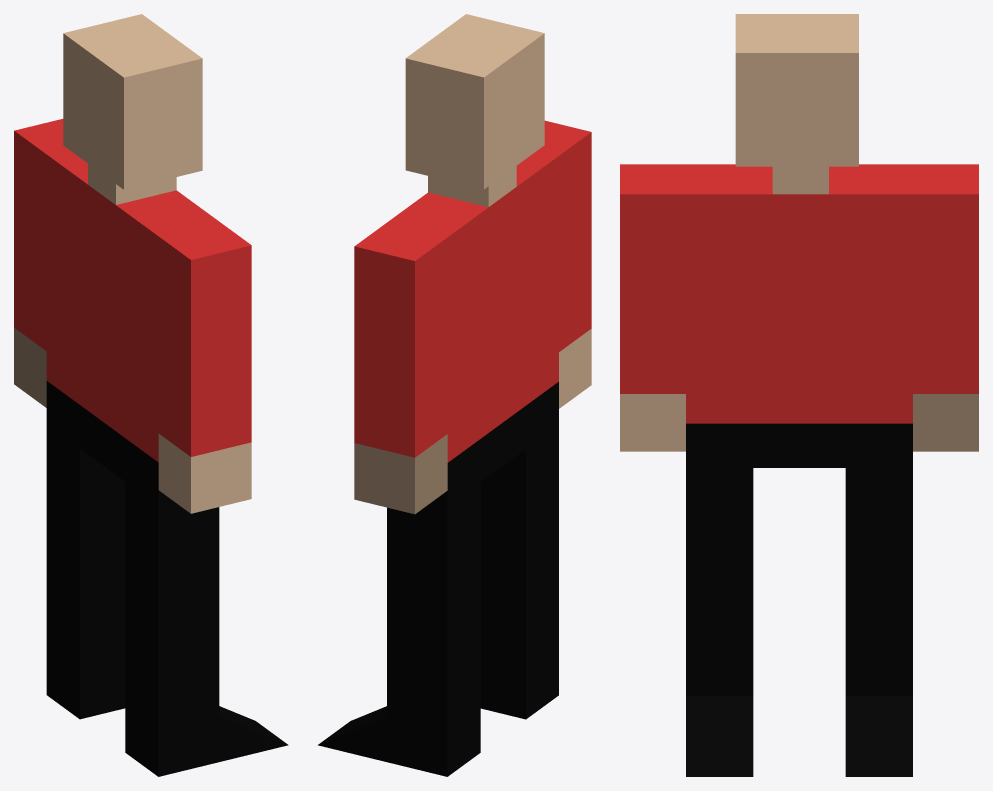
File: classroom_avatar.glb
3 renders of one model, left to right at view 1: azimuth 30°, elevation 25°; view 2: azimuth 150°, elevation 25°; view 3: azimuth 270°, elevation 25°, orthographic.
Visible parts, largest first — view 1: Cube.004, Cube.001, Cube.002, Cube.005, Cube.007, Cube.008, Cube.006; view 2: Cube.004, Cube.002, Cube.001, Cube.005, Cube.008, Cube.007, Cube.006; view 3: Cube.004, Cube.001, Cube.002, Cube.005, Cube.007, Cube.008, Cube.006.
Boxes of the visible parts, x1,y1,x2,y2 form: Cube.004: [14, 119, 251, 462]; Cube.001: [80, 405, 288, 776]; Cube.002: [46, 381, 125, 719]; Cube.005: [63, 14, 202, 189]; Cube.007: [158, 434, 251, 513]; Cube.008: [14, 328, 46, 407]; Cube.006: [88, 164, 176, 204]; Cube.004: [354, 120, 591, 462]; Cube.002: [318, 439, 480, 776]; Cube.001: [480, 382, 558, 719]; Cube.005: [405, 14, 544, 189]; Cube.008: [354, 434, 447, 514]; Cube.007: [559, 329, 591, 408]; Cube.006: [428, 166, 516, 206]; Cube.004: [620, 164, 978, 423]; Cube.001: [686, 423, 845, 776]; Cube.002: [845, 423, 912, 776]; Cube.005: [735, 14, 858, 166]; Cube.007: [620, 394, 685, 451]; Cube.008: [913, 394, 978, 451]; Cube.006: [772, 166, 828, 194].
Size of the model in its own units: 1.25 by 5.8 by 2.72.
